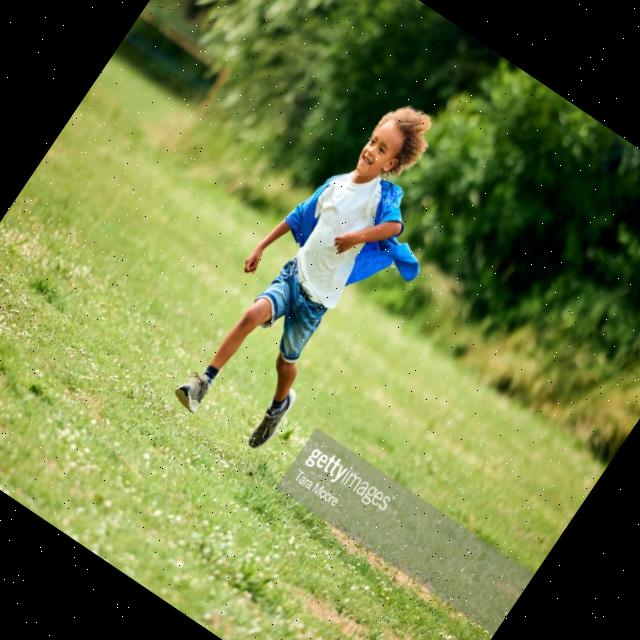Person: (157, 76, 495, 476)
